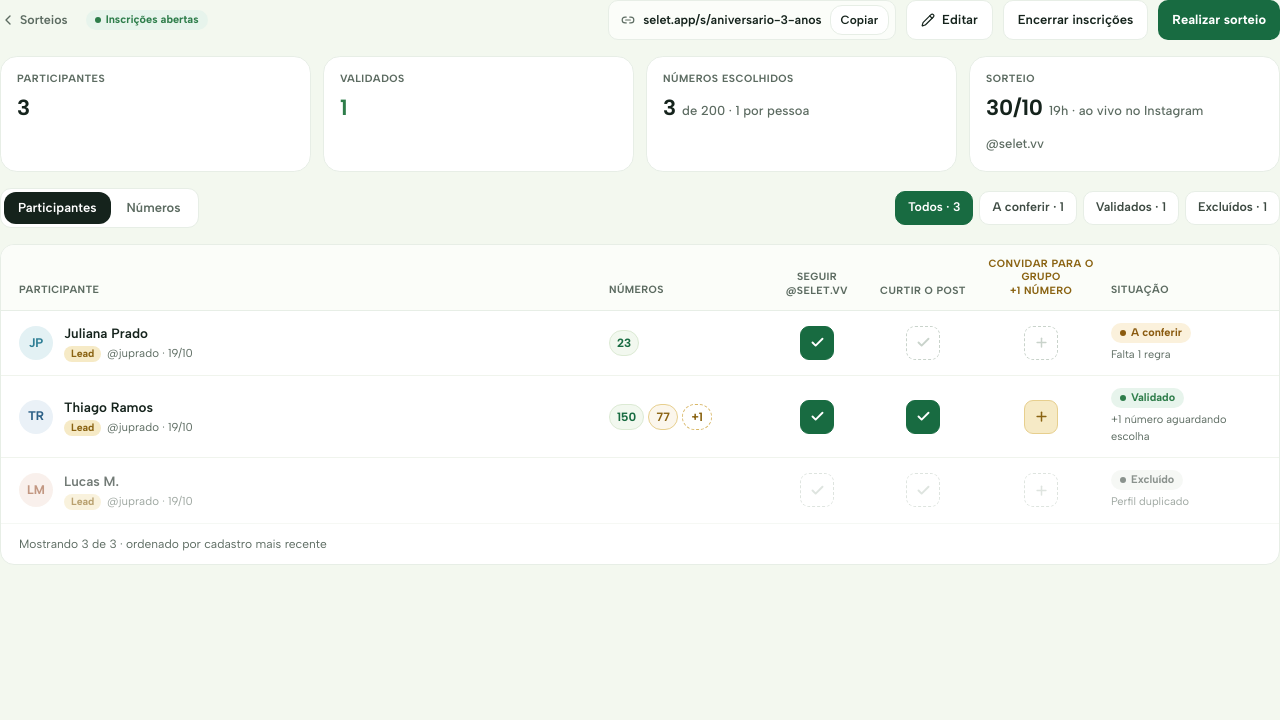
Scenario: RaffleDetailClient › without WhatsApp sending, the winner notice is a message the team sends by hand
Click the button "Realizar sorteio": (1219, 20) [1158, 0, 1279, 40]
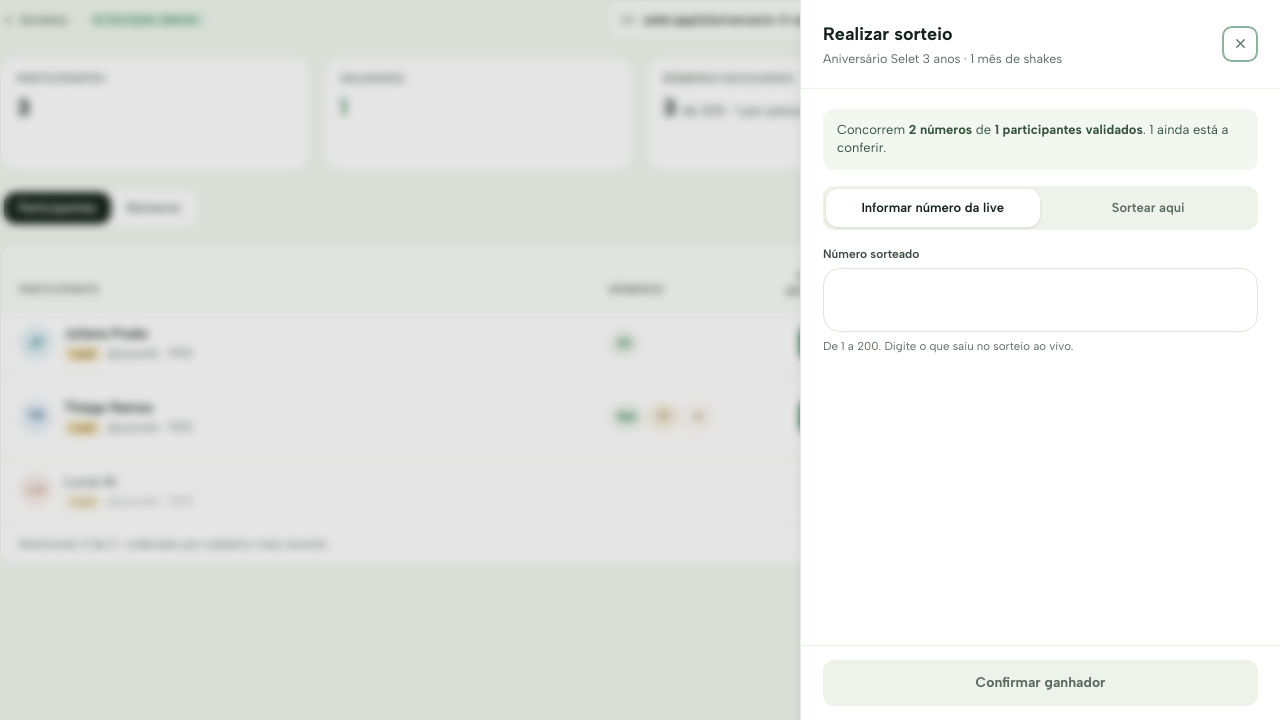
In the field labelled "Número sorteado": (1040, 300) [823, 268, 1258, 332], type "150"
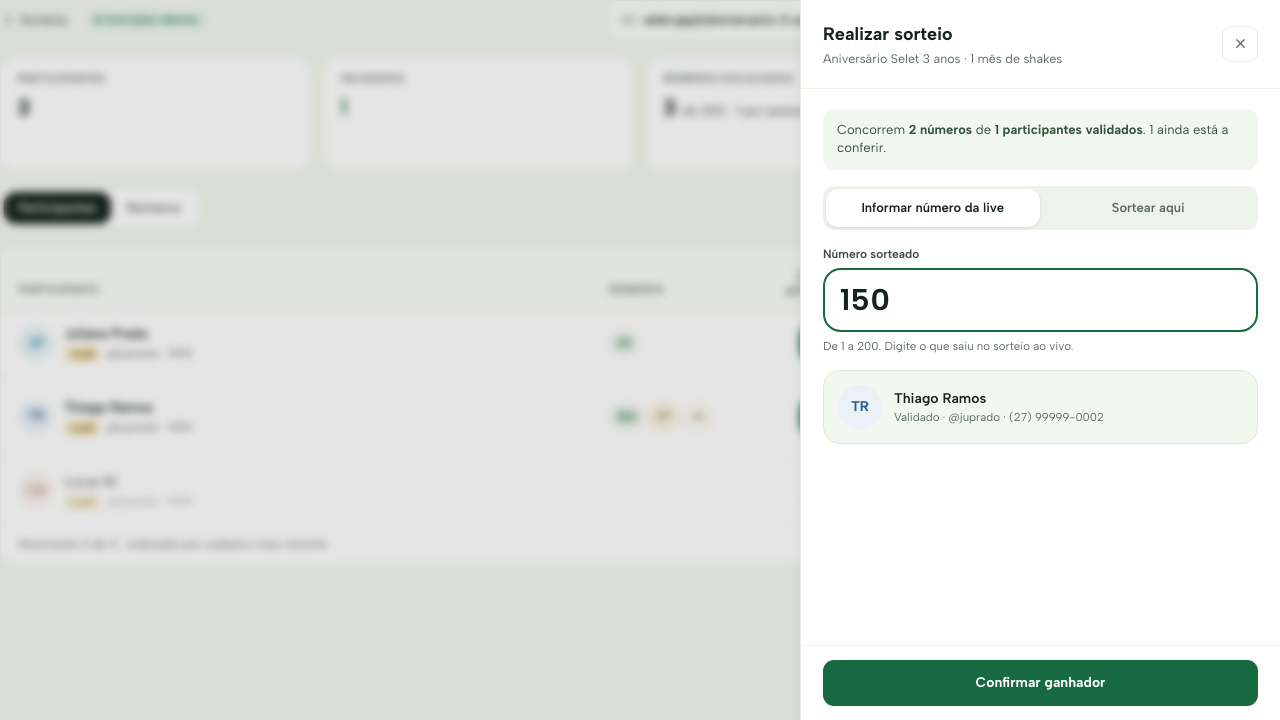
Click the button "Confirmar ganhador": (1040, 683) [823, 660, 1258, 706]
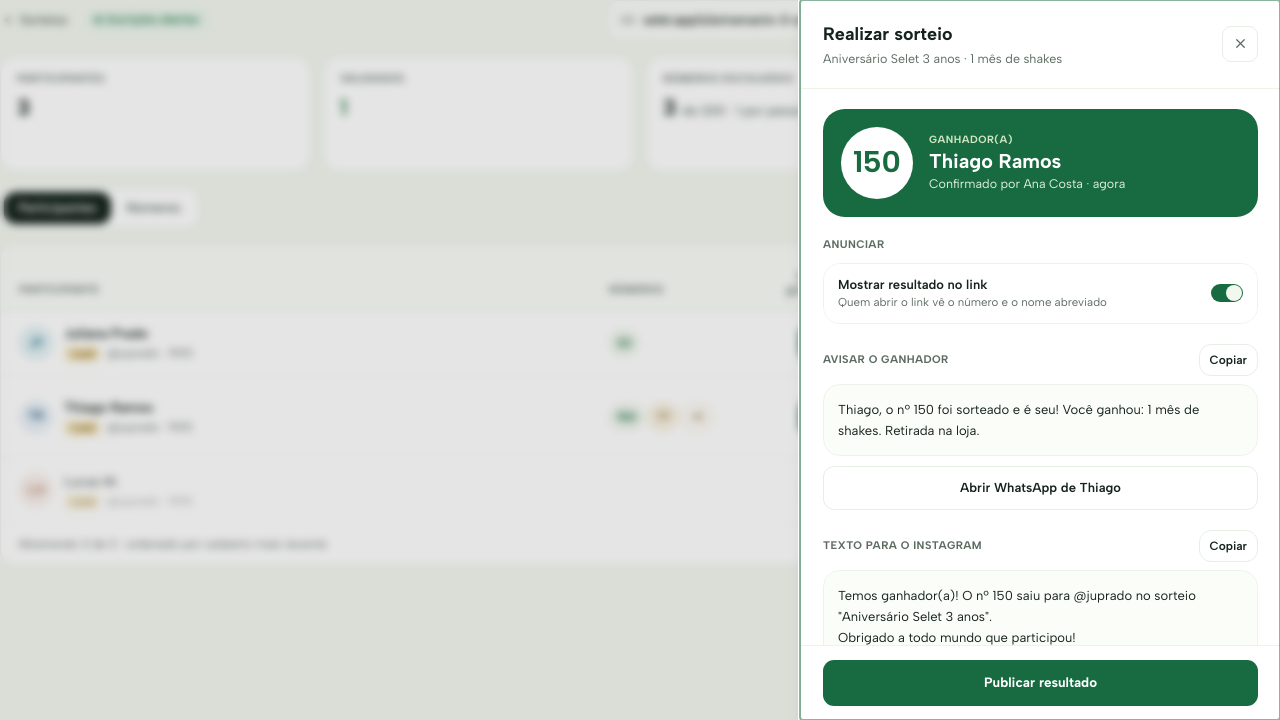
Check: the heading "Anunciar" is shown, box [823, 238, 884, 251]
Check: the switch named "Mostrar resultado no link" is shown, box [1211, 284, 1243, 302]
